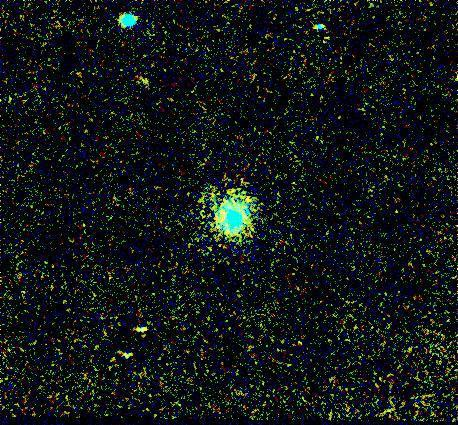star: (237, 181, 267, 211)
